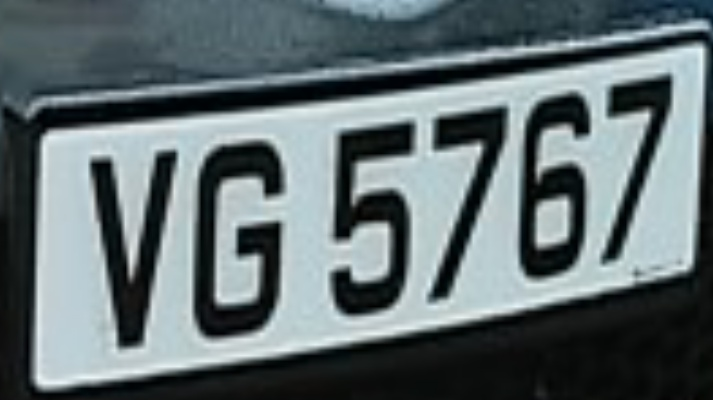5: (323, 113, 426, 327)
6: (507, 81, 604, 290)
7: (417, 97, 518, 313), (588, 65, 683, 273)
G: (179, 130, 302, 348)
V: (72, 142, 189, 361)
